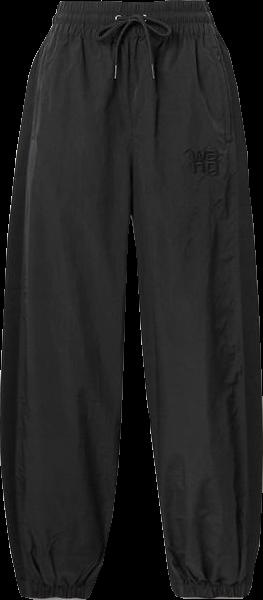Hemline: (175, 591, 249, 599), (21, 591, 89, 599)
Pantleg: (128, 0, 261, 598), (0, 1, 128, 599)
Waistline: (45, 26, 220, 40), (58, 0, 211, 8)
